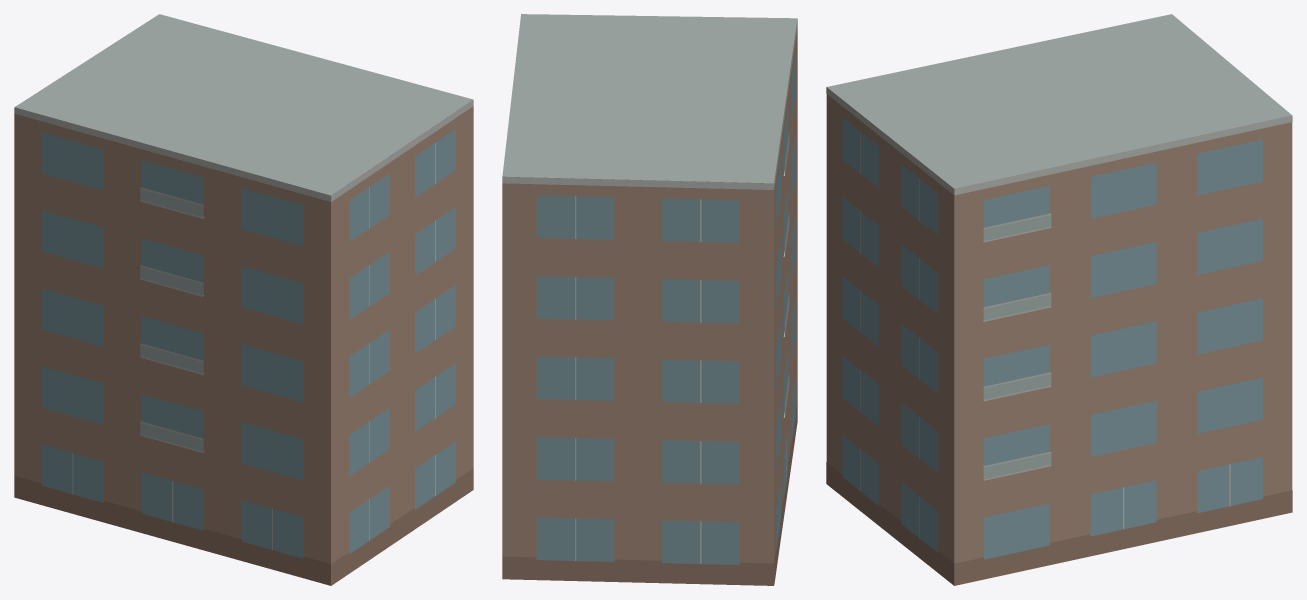
The model's file is survey-upis-32832187.glb.
3 renders of one model, left to right at view 1: azimuth 30°, elevation 25°; view 2: azimuth 150°, elevation 25°; view 3: azimuth 270°, elevation 25°, orthographic. The views are drawn at different scales.
Parts seen in each view (by area): view 1: survey-upis-32832187.tmp; view 2: survey-upis-32832187.tmp; view 3: survey-upis-32832187.tmp.
Boxes of the visible parts, x1,y1,x2,y2 form: survey-upis-32832187.tmp: (14, 14, 473, 585); survey-upis-32832187.tmp: (502, 14, 797, 585); survey-upis-32832187.tmp: (826, 14, 1292, 585).
Bounding box in the file's own units: 13.85 × 14.65 × 15.59.
